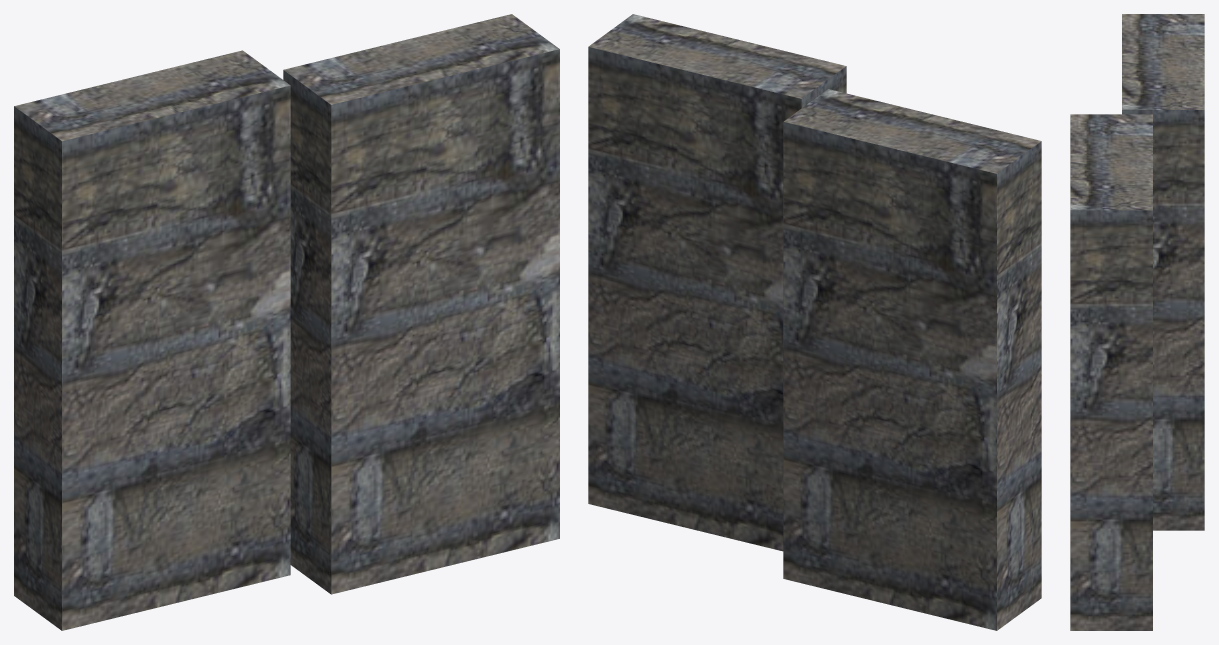
The model's file is bunker_door_brick.glb.
The picture shows the model from 3 angles, left to right: view 1: azimuth 30°, elevation 25°; view 2: azimuth 150°, elevation 25°; view 3: azimuth 270°, elevation 25°; orthographic projection. The views are drawn at different scales.
Parts seen in each view (by area): view 1: bunker_door; view 2: bunker_door; view 3: bunker_door.
Boxes of the visible parts, bbox=[...] form: bunker_door: bbox=[14, 14, 559, 630]; bunker_door: bbox=[588, 14, 1041, 630]; bunker_door: bbox=[1070, 14, 1204, 630].
Size of the model in its own units: 0.9 by 0.9 by 0.26.
Materials: 1 (1 with a texture image).
